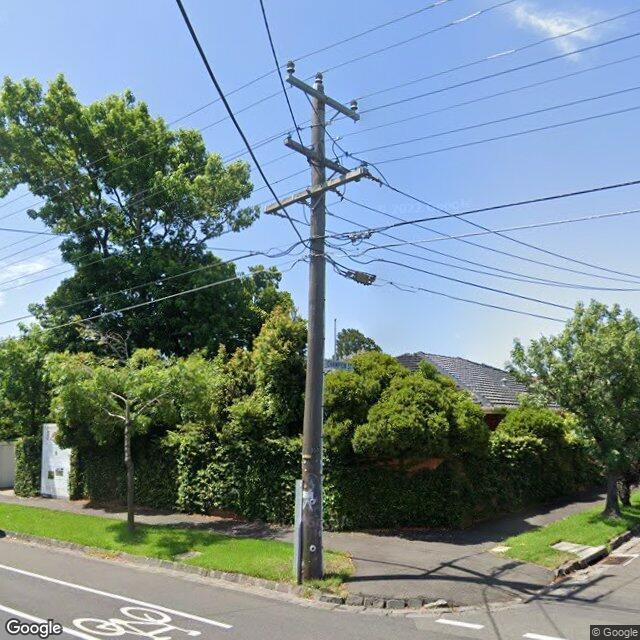HV-transmission: (286, 60, 360, 121)
crossarm: (263, 161, 382, 226), (284, 133, 362, 183), (285, 74, 361, 121)
timber-pole: (292, 85, 328, 580)
